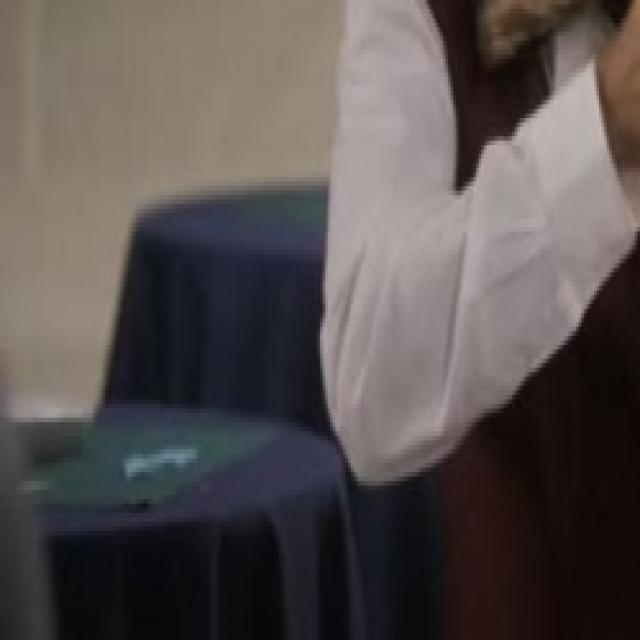Guns: (461, 0, 640, 327)
